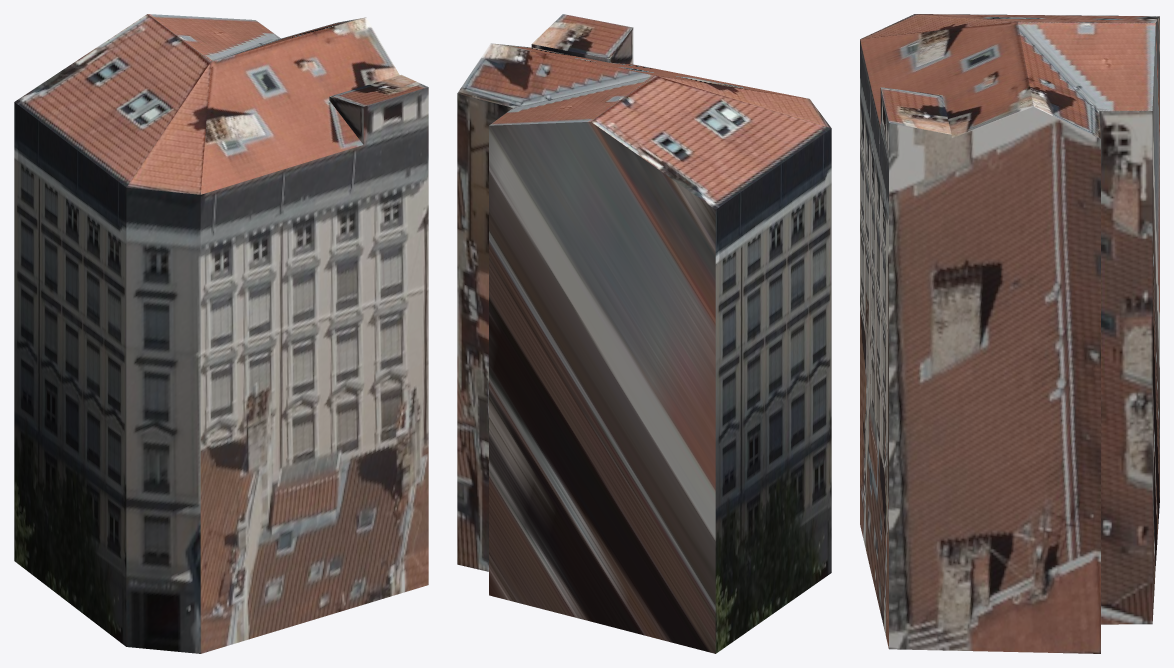
3 views of the same model, side by side, from view 1: azimuth 30°, elevation 25°; view 2: azimuth 150°, elevation 25°; view 3: azimuth 270°, elevation 25° (orthographic). The views are drawn at different scales.
Parts seen in each view (by area): view 1: Z_UP; view 2: Z_UP; view 3: Z_UP.
Part boxes in pixels (box(x1,y1,x2,y2)): Z_UP: box(14, 14, 428, 653); Z_UP: box(457, 14, 831, 653); Z_UP: box(860, 14, 1159, 653).
Size of the model in its own units: 16.08 by 26.55 by 13.2.
2 materials, 1 textured.
